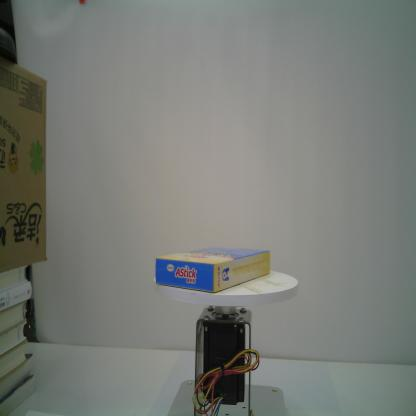Dessert: (153, 245, 272, 295)
